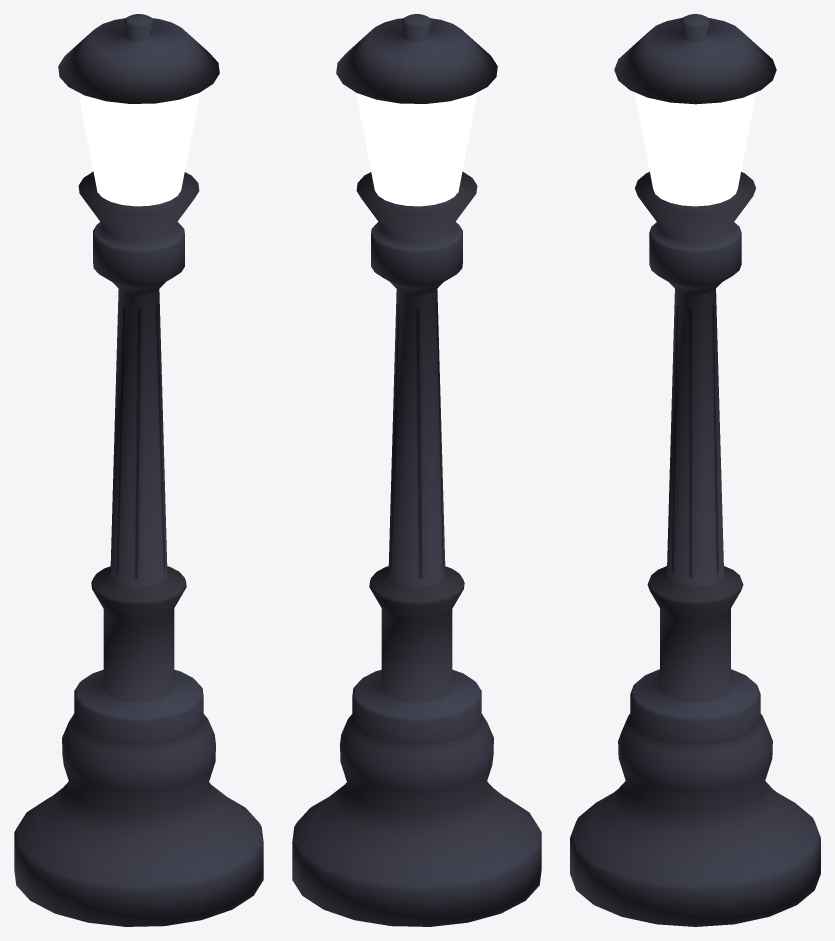
Rendered from Lamppost.fbx.
The picture shows the model from 3 angles, left to right: view 1: azimuth 30°, elevation 25°; view 2: azimuth 150°, elevation 25°; view 3: azimuth 270°, elevation 25°; orthographic projection.
Visible parts, largest first — view 1: Lamp_post; view 2: Lamp_post; view 3: Lamp_post.
Part boxes in pixels (x1,y1,x2,y2): Lamp_post: [14, 14, 263, 926]; Lamp_post: [292, 14, 541, 926]; Lamp_post: [570, 14, 820, 926].
Size of the model in its own units: 181 by 682 by 181.
Materials: 1 (1 with a texture image).
